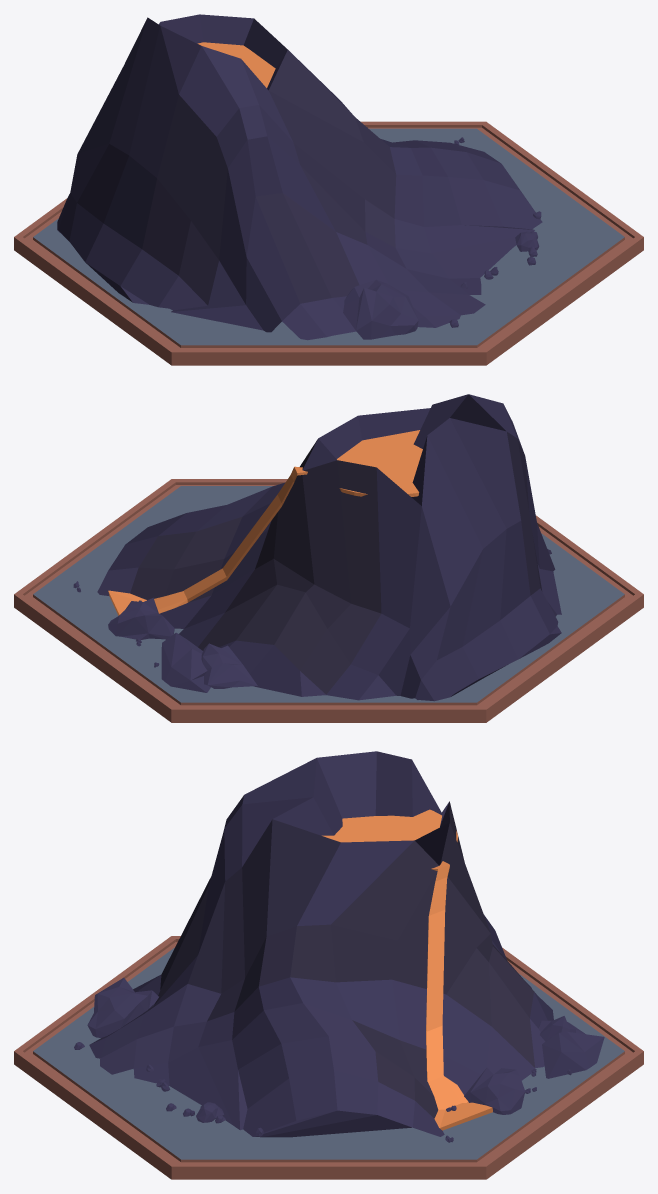
Rendered from Hexagon_Vulcano.glb.
3 renders of one model, top to bottom at view 1: azimuth 30°, elevation 25°; view 2: azimuth 150°, elevation 25°; view 3: azimuth 270°, elevation 25°, orthographic.
Parts seen in each view (by area): view 1: Plane, Circle, Sphere.005, Circle.001; view 2: Plane, Circle, Circle.001, Icosphere, Sphere.001, Sphere.002; view 3: Plane, Circle, Circle.001, Sphere.005, Icosphere, Sphere.001.
Boxes of the visible parts, <box> form: Plane: <box>57,14,542,340</box>; Circle: <box>14,121,643,365</box>; Sphere.005: <box>343,279,418,339</box>; Circle.001: <box>197,42,275,87</box>; Plane: <box>97,394,561,701</box>; Circle: <box>14,479,643,722</box>; Circle.001: <box>108,430,422,615</box>; Icosphere: <box>161,632,210,692</box>; Sphere.001: <box>108,597,174,639</box>; Sphere.002: <box>201,643,257,688</box>; Plane: <box>89,751,553,1137</box>; Circle: <box>14,936,643,1179</box>; Circle.001: <box>322,809,492,1130</box>; Sphere.005: <box>87,978,158,1037</box>; Icosphere: <box>542,1031,604,1078</box>; Sphere.001: <box>464,1067,525,1114</box>.
Bounding box in the file's own units: 30.17 × 14.82 × 34.84.
4 materials, 4 textured.
